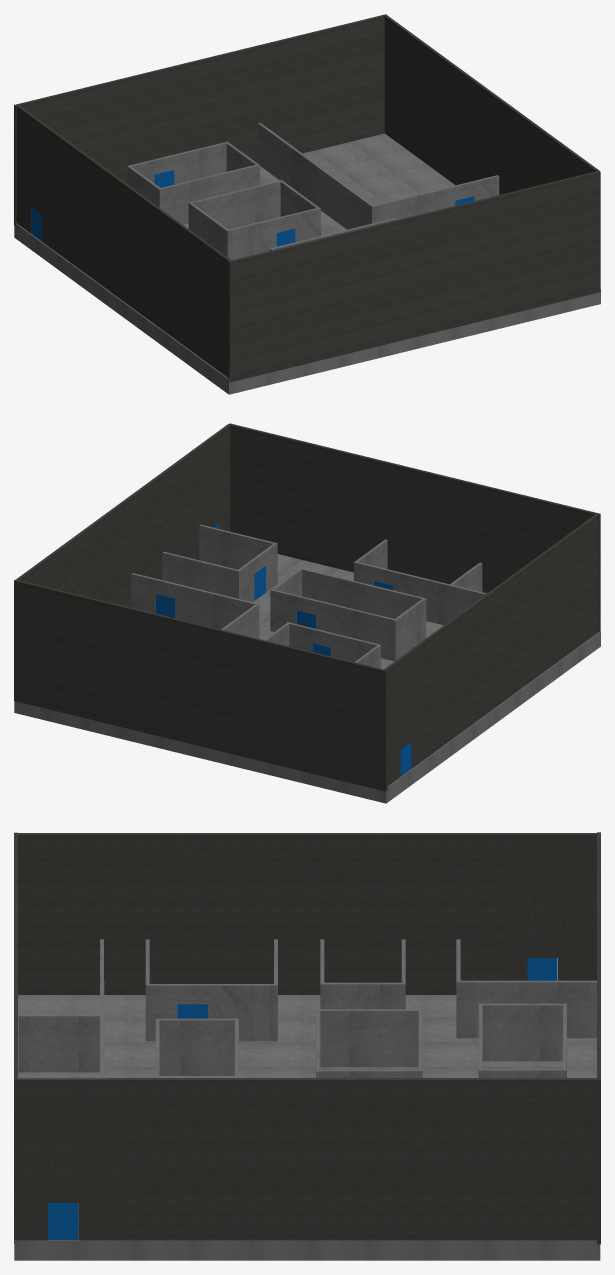
The model's file is Piso3.fbx.
3 views of the same model, one above another, from view 1: azimuth 30°, elevation 25°; view 2: azimuth 150°, elevation 25°; view 3: azimuth 270°, elevation 25° (orthographic). The views are drawn at different scales.
Parts seen in each view (by area): view 1: pCube5, pCube4, pCube6, pCube3, pCube1, pCube90, pCube107, pCube89, pCube79, pCube88, pCube93, pCube91 (+8 smaller); view 2: pCube4, pCube5, pCube6, pCube3, pCube1, pCube107, pCube104, pCube99, pCube102, pCube103, pCube95, pCube91 (+11 smaller); view 3: pCube3, pCube6, pCube1, pCube104, pCube107, pCube85, pCube60, pCube73, pCube78, pCube97, pCube67, pCube62 (+7 smaller).
Boxes of the visible parts, left/top/right/bottom form: pCube5: left=228, top=171, right=600, bottom=382; pCube4: left=14, top=14, right=386, bottom=225; pCube6: left=53, top=132, right=232, bottom=377; pCube3: left=384, top=15, right=564, bottom=194; pCube1: left=14, top=133, right=600, bottom=394; pCube90: left=258, top=123, right=374, bottom=229; pCube107: left=16, top=104, right=55, bottom=249; pCube89: left=190, top=180, right=282, bottom=229; pCube79: left=160, top=164, right=257, bottom=224; pCube88: left=256, top=207, right=320, bottom=253; pCube93: left=372, top=190, right=435, bottom=223; pCube91: left=434, top=175, right=499, bottom=210; pCube4: left=14, top=579, right=387, bottom=791; pCube5: left=229, top=423, right=600, bottom=632; pCube6: left=421, top=513, right=598, bottom=759; pCube3: left=16, top=449, right=197, bottom=607; pCube1: left=14, top=554, right=600, bottom=803; pCube107: left=383, top=642, right=423, bottom=785; pCube104: left=190, top=424, right=230, bottom=559; pCube99: left=301, top=568, right=425, bottom=618; pCube102: left=162, top=551, right=237, bottom=598; pCube103: left=199, top=524, right=274, bottom=569; pCube95: left=335, top=605, right=396, bottom=661; pCube91: left=131, top=573, right=195, bottom=622; pCube3: left=107, top=1078, right=598, bottom=1240; pCube6: left=15, top=833, right=505, bottom=994; pCube1: left=14, top=995, right=600, bottom=1260; pCube104: left=16, top=1078, right=120, bottom=1240; pCube107: left=496, top=833, right=599, bottom=980; pCube85: left=317, top=1009, right=422, bottom=1066; pCube60: left=456, top=980, right=596, bottom=1038; pCube73: left=18, top=1014, right=103, bottom=1072; pCube78: left=478, top=1003, right=562, bottom=1061; pCube97: left=155, top=1018, right=234, bottom=1075; pCube67: left=146, top=984, right=251, bottom=1041; pCube62: left=320, top=982, right=401, bottom=1009.
Size of the model in its own units: 3764 by 1280 by 3768.
